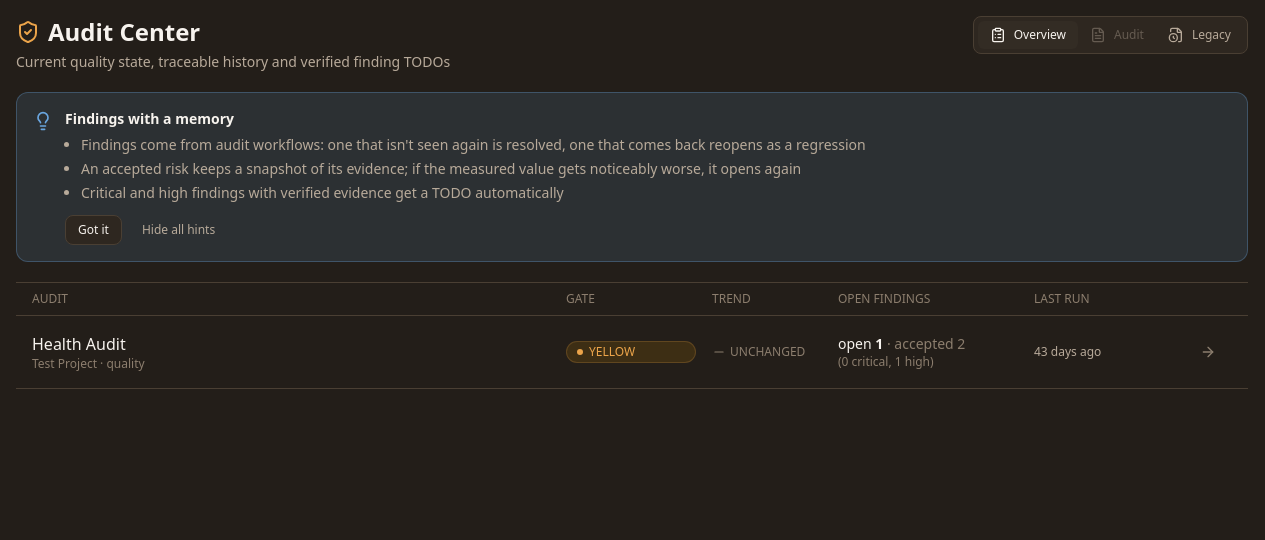
Scenario: AuditCenter report head › loads the text of the shown report when the list carries heads only (new backend)
Click the text "Health Audit".
click(79, 344)  # box 32,333 -> 126,355
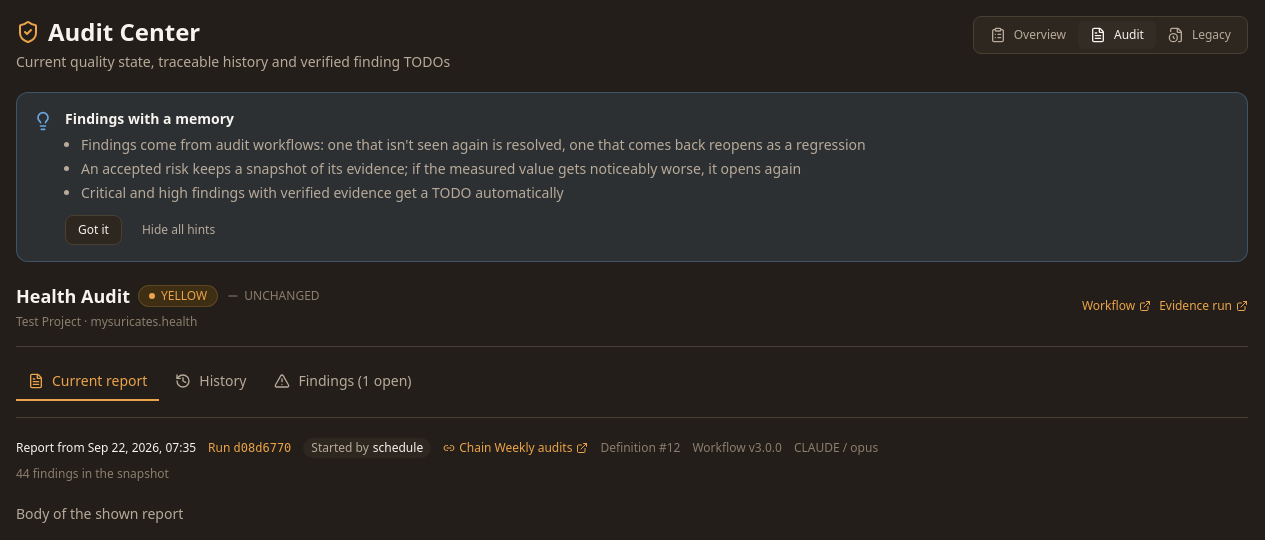
Expected: the text "Body of the shown report" is shown, 16,504 -> 183,523
